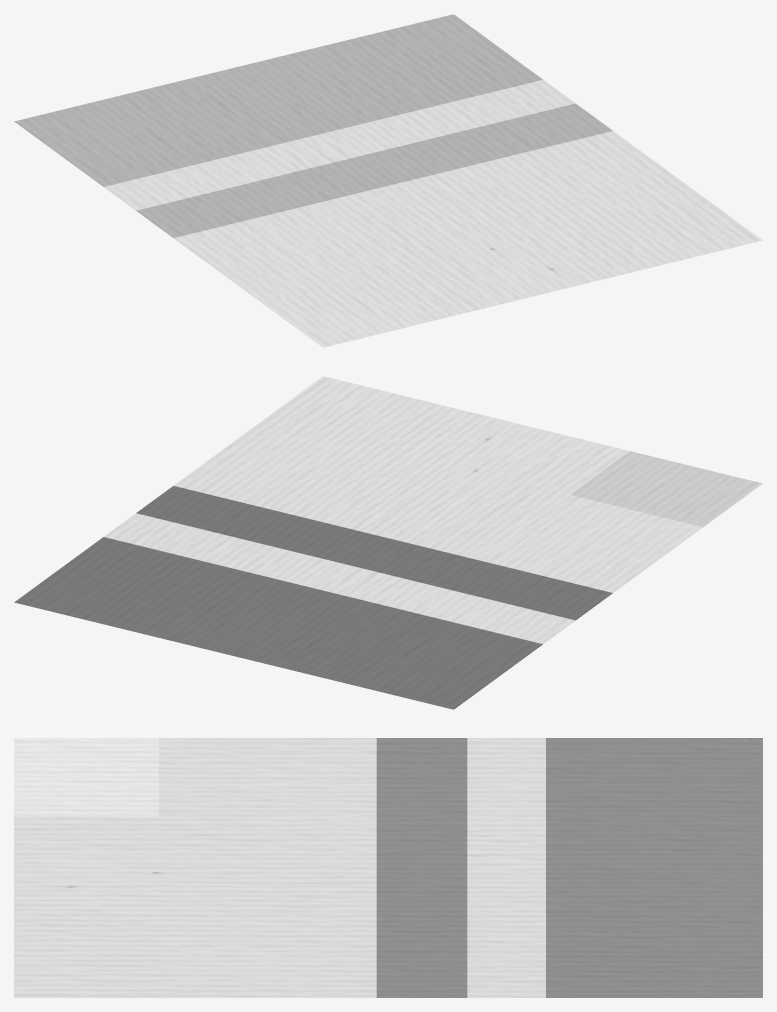
The model's file is maquete.gltf.
3 renders of one model, top to bottom at view 1: azimuth 30°, elevation 25°; view 2: azimuth 150°, elevation 25°; view 3: azimuth 270°, elevation 25°, orthographic. The views are drawn at different scales.
Parts seen in each view (by area): view 1: Maquete.001; view 2: Maquete.001; view 3: Maquete.001.
Part boxes in pixels (x1,y1,x2,y2): Maquete.001: (14, 14, 762, 347); Maquete.001: (14, 376, 762, 709); Maquete.001: (14, 738, 762, 997).
Size of the model in its own units: 2 by 1.27e-07 by 2.44.
1 material, 1 textured.
